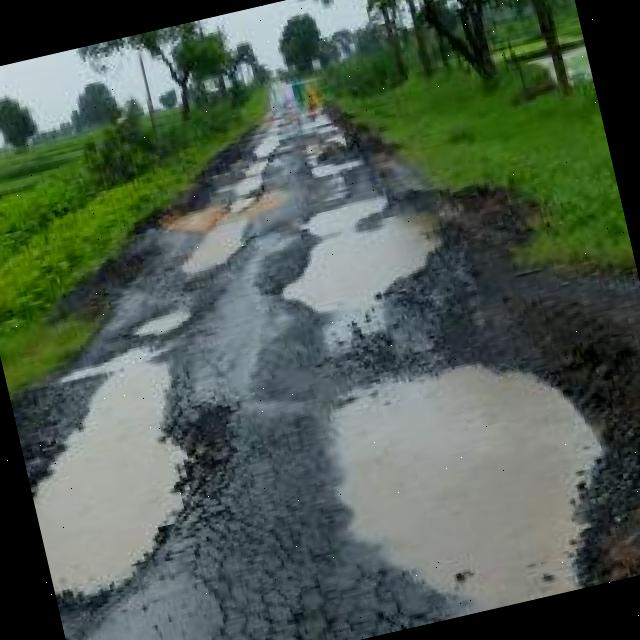waterlogging: (276, 323, 640, 640), (12, 340, 245, 618), (266, 196, 467, 360)
